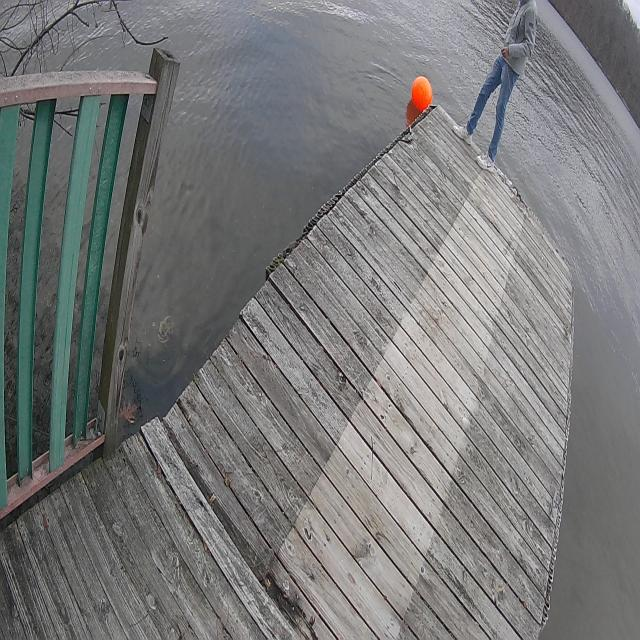Buoy: (410, 73, 434, 116)
